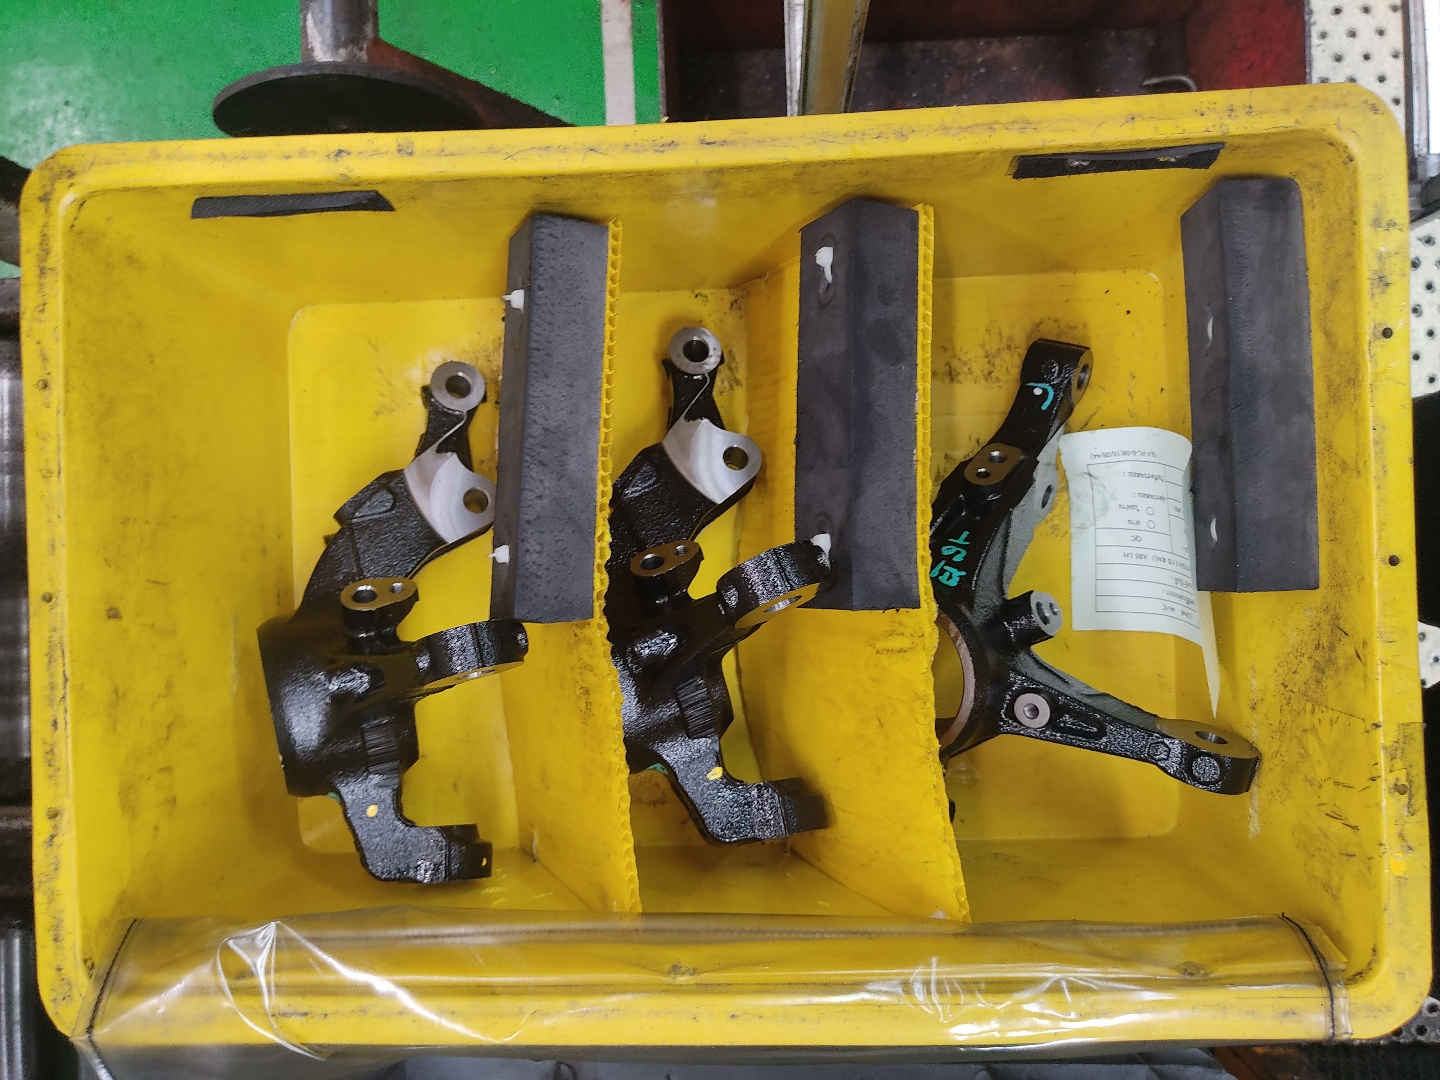abs-lh: (918, 327, 1269, 842), (242, 355, 537, 893), (598, 320, 847, 857)
